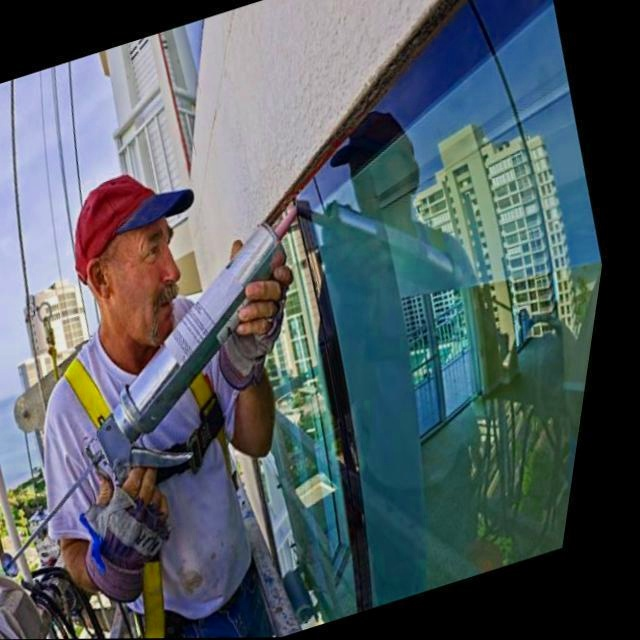safety belt: (70, 333, 263, 593)
